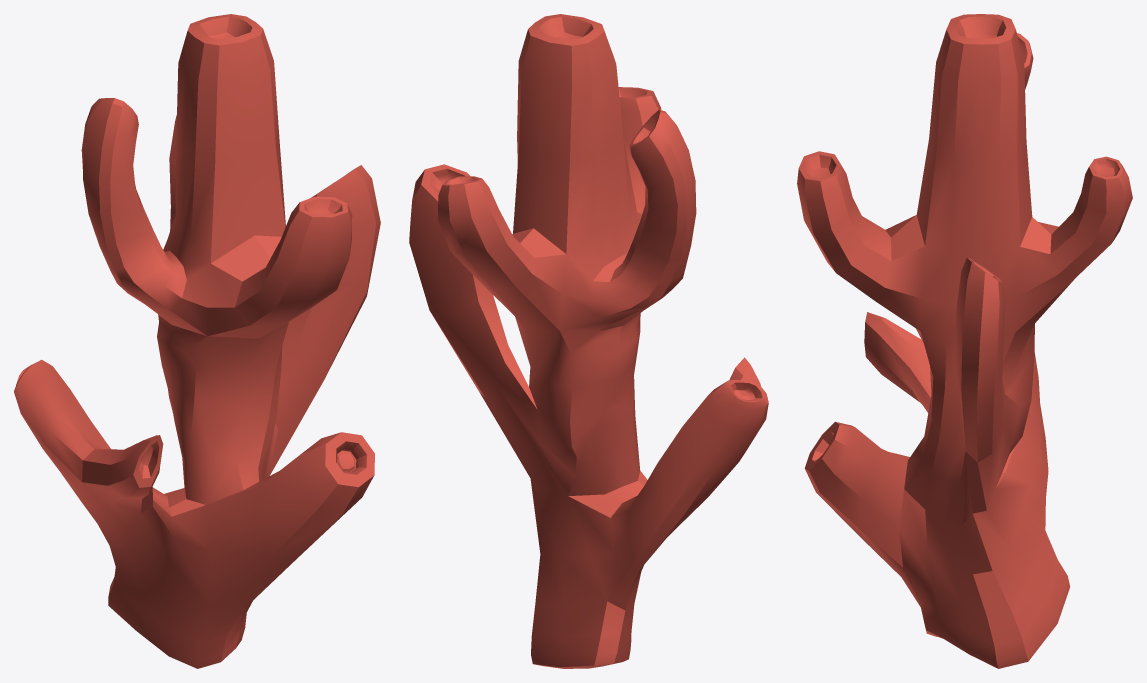
Rendered from coral big.fbx.
3 renders of one model, left to right at view 1: azimuth 30°, elevation 25°; view 2: azimuth 150°, elevation 25°; view 3: azimuth 270°, elevation 25°, orthographic. The views are drawn at different scales.
Parts seen in each view (by area): view 1: coral 2; view 2: coral 2; view 3: coral 2.
Part boxes in pixels (box(x1,y1,x2,y2)): coral 2: box(14, 14, 380, 668); coral 2: box(409, 14, 768, 668); coral 2: box(797, 14, 1132, 668).
Size of the model in its own units: 826 by 1350 by 651.
